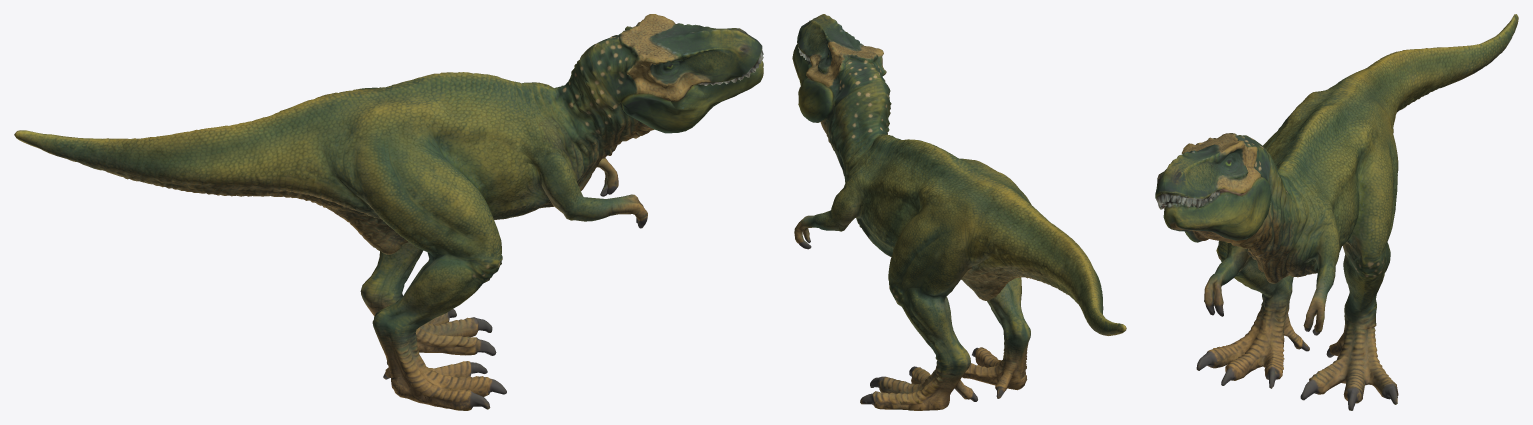
The picture shows the model from 3 angles, left to right: view 1: azimuth 30°, elevation 25°; view 2: azimuth 150°, elevation 25°; view 3: azimuth 270°, elevation 25°; orthographic projection. The views are drawn at different scales.
Visible parts, largest first — view 1: geo.007; view 2: geo.007; view 3: geo.007.
Boxes of the visible parts, bbox=[...] form: geo.007: bbox=[14, 14, 763, 410]; geo.007: bbox=[792, 14, 1126, 410]; geo.007: bbox=[1155, 14, 1518, 410].
Size of the model in its own units: 0.2397 by 0.1353 by 0.14.
1 material, 1 textured.
